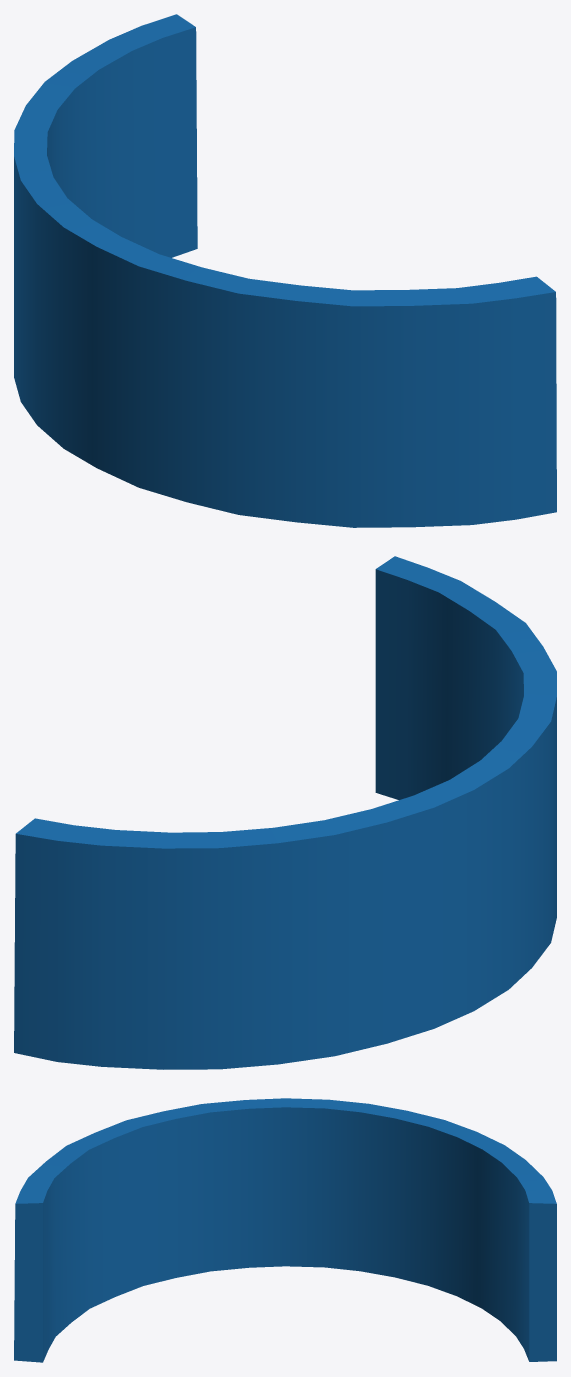
The model's file is Edge_Turn_180_01.fbx.
3 views of the same model, one above another, from view 1: azimuth 30°, elevation 25°; view 2: azimuth 150°, elevation 25°; view 3: azimuth 270°, elevation 25° (orthographic). The views are drawn at different scales.
Visible parts, largest first — view 1: Edge_Turn_180_01; view 2: Edge_Turn_180_01; view 3: Edge_Turn_180_01.
Boxes of the visible parts, box(x1,y1,x2,y2) form: Edge_Turn_180_01: box(14, 14, 556, 527); Edge_Turn_180_01: box(14, 556, 556, 1069); Edge_Turn_180_01: box(14, 1098, 556, 1362).
Size of the model in its own units: 4.18 by 2.93 by 9.04.
